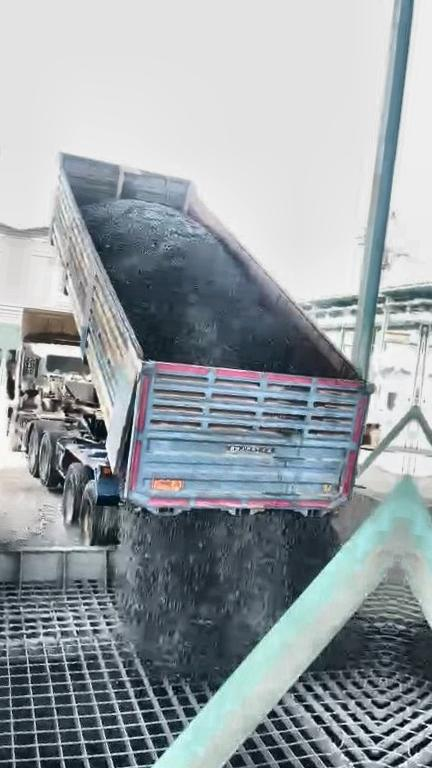gravel: (84, 200, 340, 376), (115, 511, 336, 682), (309, 613, 379, 672)
